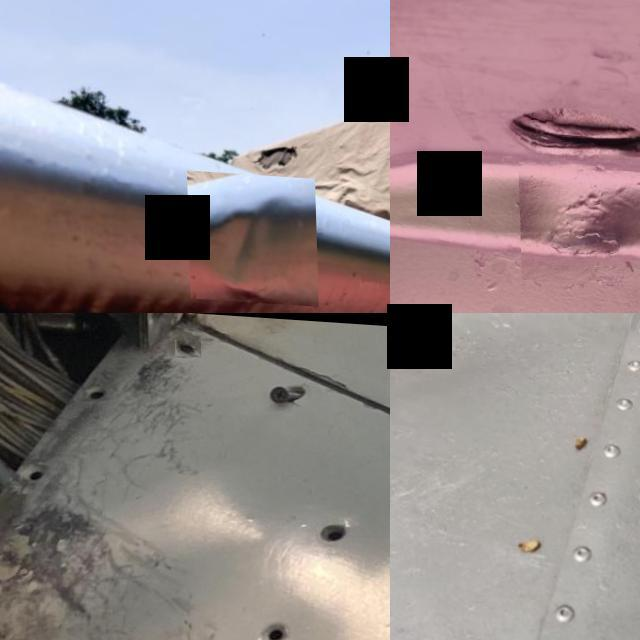Dent: (185, 167, 316, 302), (516, 154, 640, 284)
Missing_Fastener: (247, 615, 289, 640), (313, 512, 350, 538), (14, 462, 52, 486), (80, 380, 114, 400), (175, 336, 201, 353)
